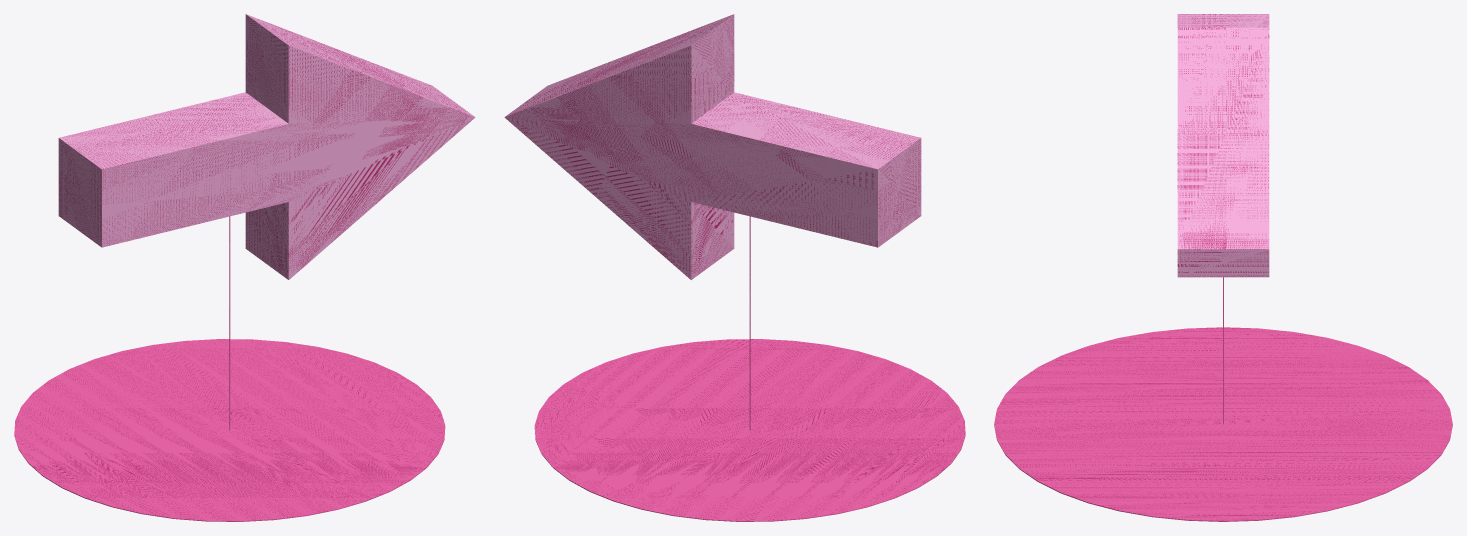
File: waypoint.dae
The picture shows the model from 3 angles, left to right: view 1: azimuth 30°, elevation 25°; view 2: azimuth 150°, elevation 25°; view 3: azimuth 270°, elevation 25°; orthographic projection. The views are drawn at different scales.
Visible parts, largest first — view 1: SketchUp (×2); view 2: SketchUp (×2); view 3: SketchUp (×2).
Part boxes in pixels (x1=…): SketchUp (×2): x1=14, y1=14, x2=475, y2=521; SketchUp (×2): x1=504, y1=14, x2=965, y2=521; SketchUp (×2): x1=994, y1=14, x2=1452, y2=521.
Bounding box in the file's own units: 21.65 × 19.69 × 19.72.
